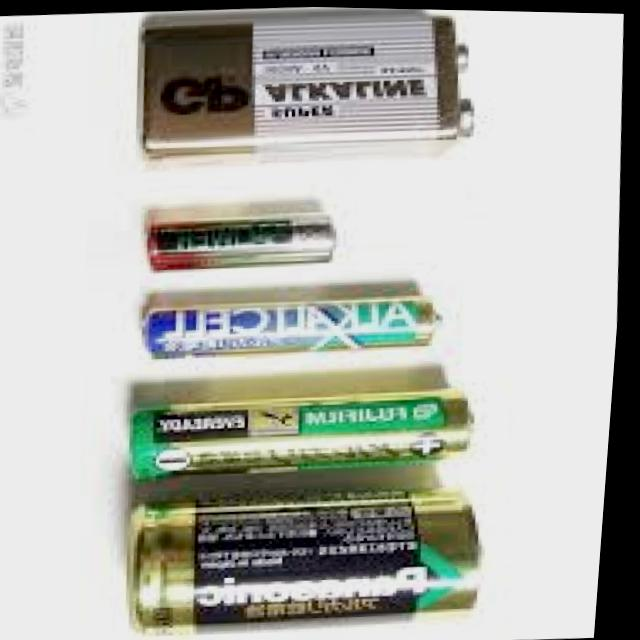B3: (64, 2, 557, 640)
